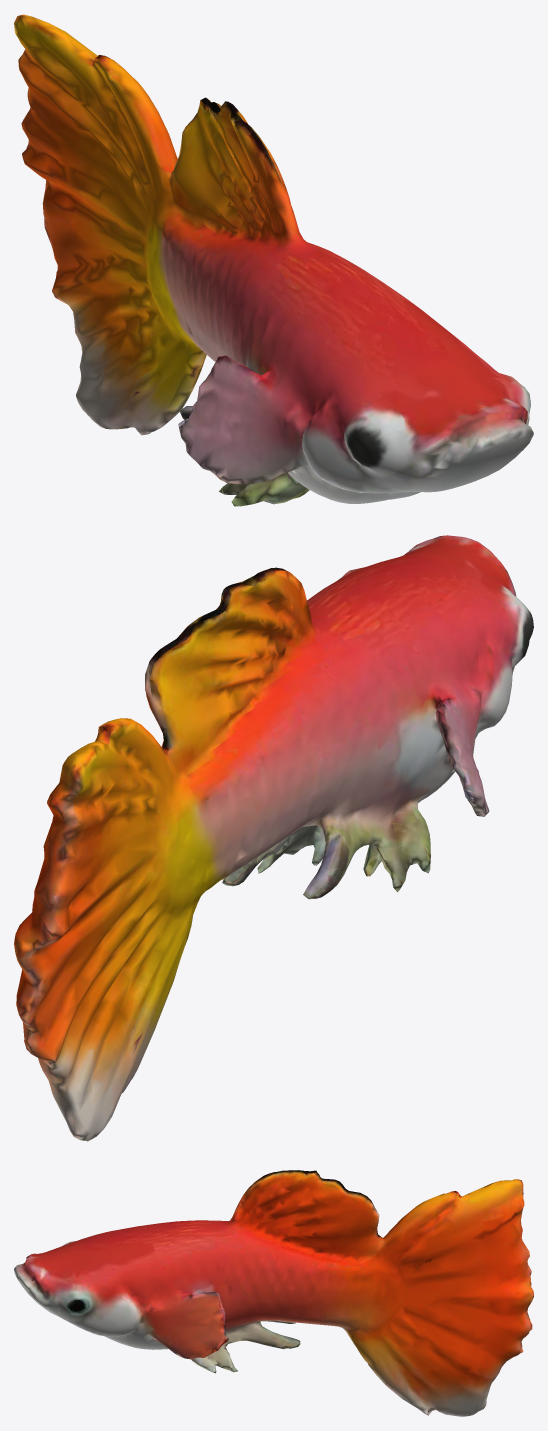
The model's file is strain-moscow_red_fan.glb.
The picture shows the model from 3 angles, top to bottom: view 1: azimuth 30°, elevation 25°; view 2: azimuth 150°, elevation 25°; view 3: azimuth 270°, elevation 25°; orthographic projection. The views are drawn at different scales.
Visible parts, largest first — view 1: Mesh_0.001; view 2: Mesh_0.001; view 3: Mesh_0.001.
Boxes of the visible parts, x1,y1,x2,y2 form: Mesh_0.001: [14, 14, 533, 506]; Mesh_0.001: [14, 535, 533, 1141]; Mesh_0.001: [14, 1170, 533, 1416].
Bounding box in the file's own units: 0.0114 × 0.0173 × 0.0332.
Materials: 2 (2 with a texture image).
